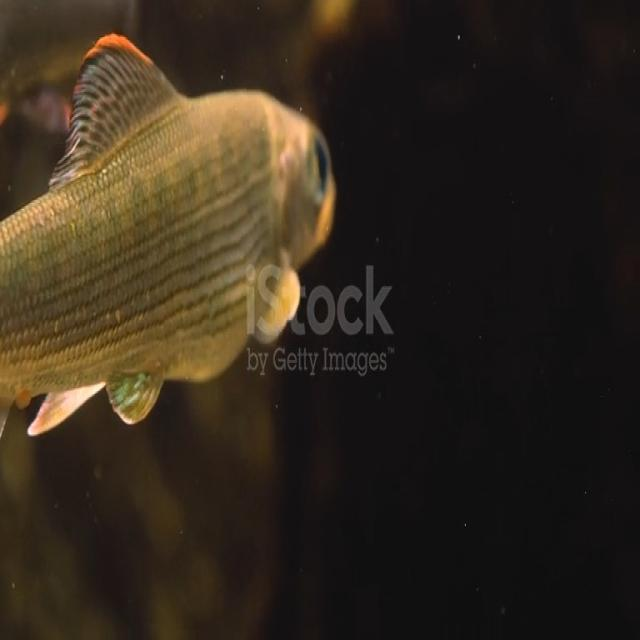fish: (2, 37, 346, 440)
